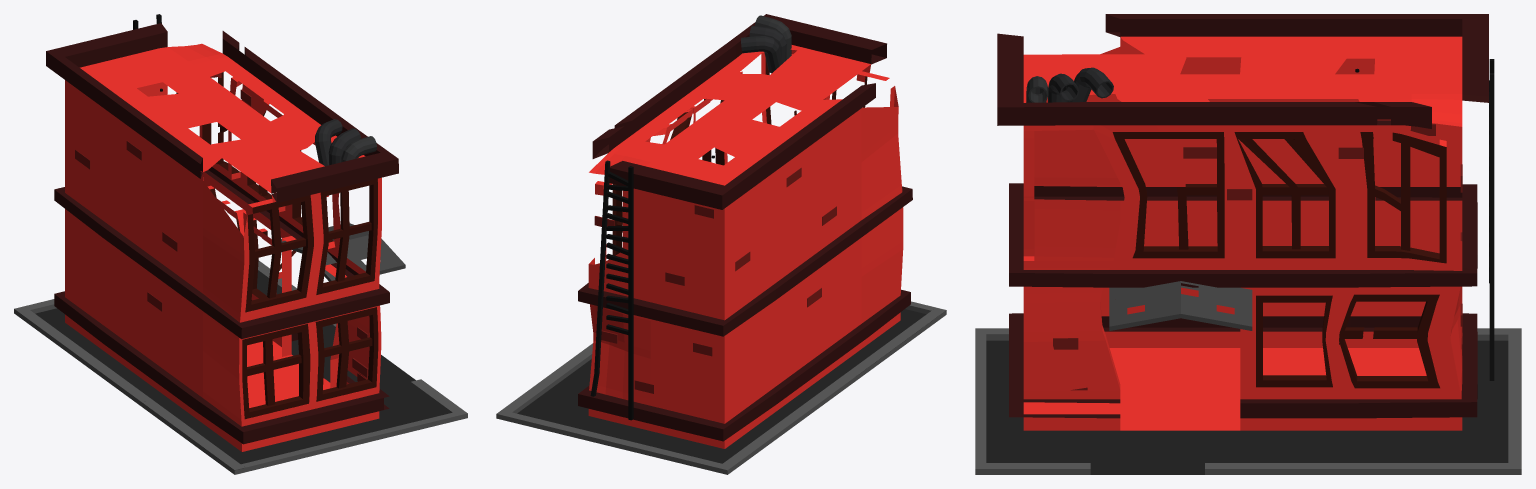
File: house_60.obj
3 renders of one model, left to right at view 1: azimuth 30°, elevation 25°; view 2: azimuth 150°, elevation 25°; view 3: azimuth 270°, elevation 25°, orthographic. The views are drawn at different scales.
Parts seen in each view (by area): view 1: Cube_Cube.303, Plane.040_Plane.021, Plane.039_Plane.020, Plane.037_Plane.018, Plane.038_Plane.019, Plane.041_Plane.032; view 2: Cube_Cube.303, Plane.040_Plane.021, Cube.253_Cube.297, Cube.254_Cube.298, Plane.037_Plane.018, Plane.041_Plane.032, Plane.038_Plane.019; view 3: Cube_Cube.303, Plane.040_Plane.021, Plane.039_Plane.020, Cube.254_Cube.298, Plane.037_Plane.018, Plane.038_Plane.019.
Boxes of the visible parts, bbox=[...] form: Cube_Cube.303: bbox=[46, 23, 398, 451]; Plane.040_Plane.021: bbox=[14, 260, 467, 474]; Plane.039_Plane.020: bbox=[281, 223, 405, 281]; Plane.037_Plane.018: bbox=[315, 119, 342, 166]; Plane.038_Plane.019: bbox=[328, 128, 360, 165]; Plane.041_Plane.032: bbox=[341, 136, 376, 162]; Cube_Cube.303: bbox=[578, 14, 912, 448]; Plane.040_Plane.021: bbox=[496, 301, 946, 474]; Cube.253_Cube.297: bbox=[628, 166, 633, 420]; Cube.254_Cube.298: bbox=[590, 160, 610, 396]; Plane.037_Plane.018: bbox=[741, 36, 782, 73]; Plane.041_Plane.032: bbox=[755, 15, 791, 59]; Plane.038_Plane.019: bbox=[749, 25, 786, 62]; Cube_Cube.303: bbox=[997, 14, 1488, 430]; Plane.040_Plane.021: bbox=[975, 328, 1521, 474]; Plane.039_Plane.020: bbox=[1109, 281, 1252, 330]; Cube.254_Cube.298: bbox=[1489, 73, 1494, 380]; Plane.037_Plane.018: bbox=[1067, 67, 1113, 102]; Plane.038_Plane.019: bbox=[1048, 73, 1078, 102].
Size of the model in its own units: 3.4 by 3.92 by 5.57.
